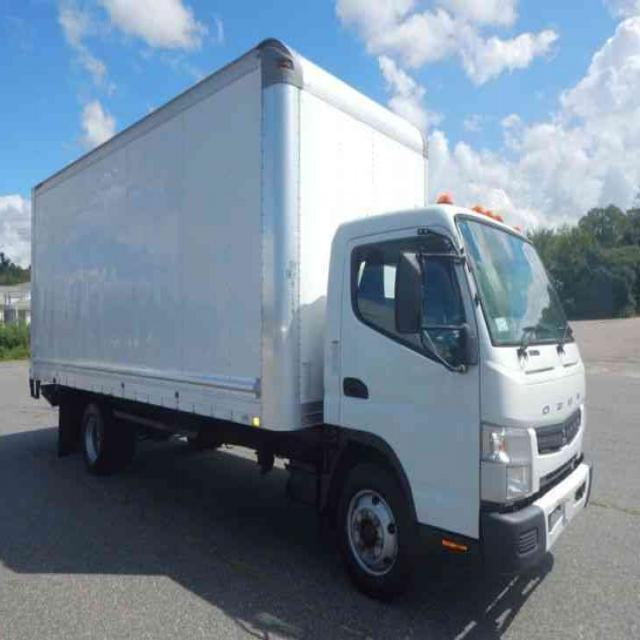truck: (26, 38, 594, 596)
